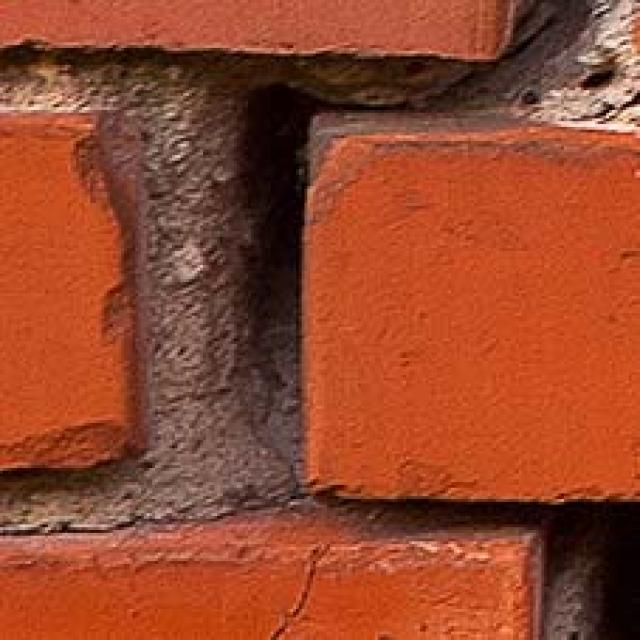Crack: (56, 0, 640, 640)
